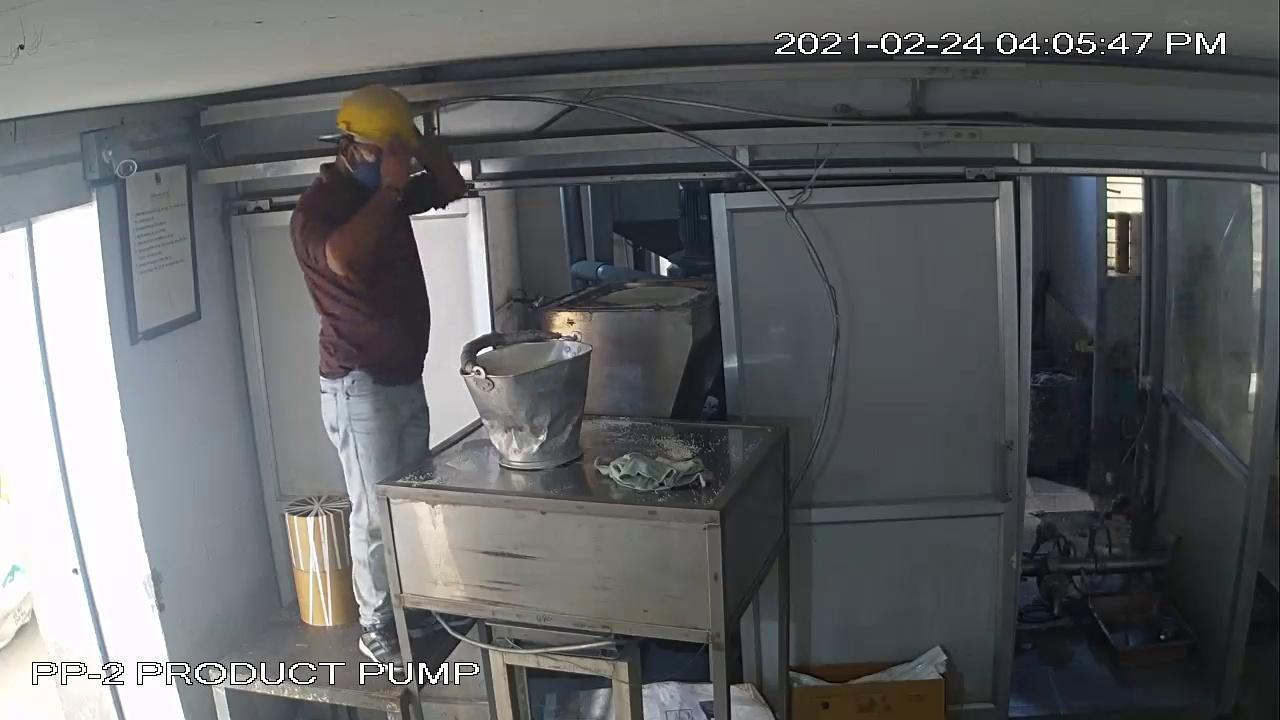helmet: (322, 82, 438, 163)
